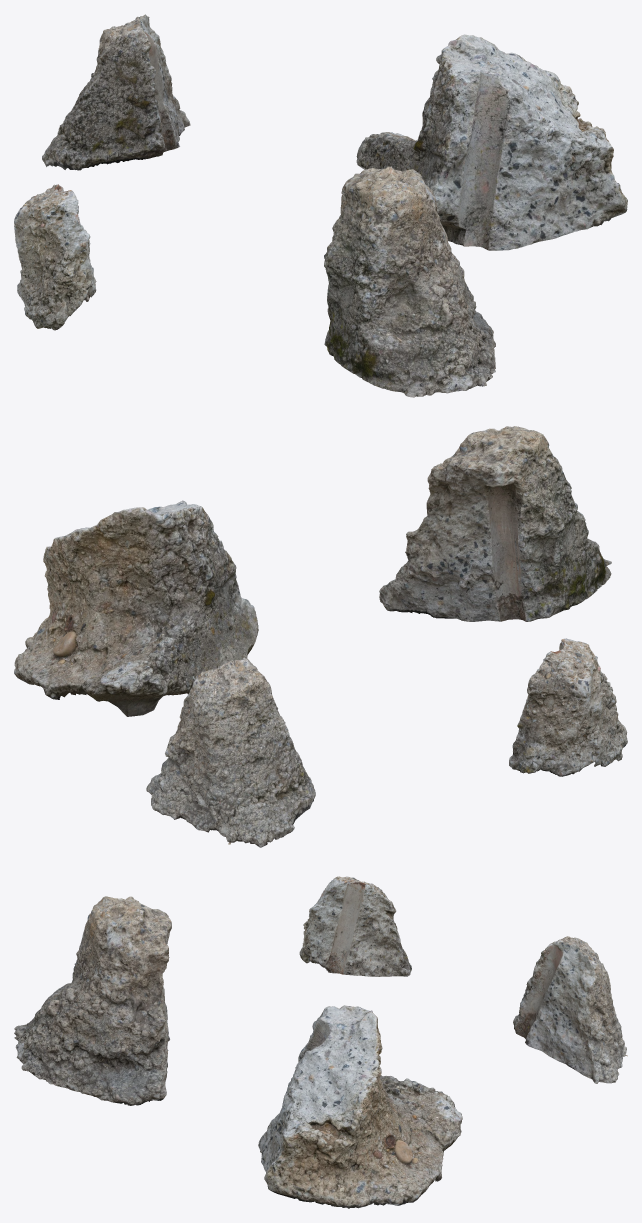
The model's file is concrete_rubble.glb.
The picture shows the model from 3 angles, top to bottom: view 1: azimuth 30°, elevation 25°; view 2: azimuth 150°, elevation 25°; view 3: azimuth 270°, elevation 25°; orthographic projection. The views are drawn at different scales.
Parts seen in each view (by area): view 1: Model.002, Model.003, Model, Model.001; view 2: Model.002, Model.003, Model, Model.001; view 3: Model.002, Model.003, Model, Model.001.
Part boxes in pixels (box(x1,y1,x2,y2)): Model.002: box(356, 34, 627, 250); Model.003: box(324, 166, 495, 397); Model: box(42, 14, 190, 170); Model.001: box(14, 184, 96, 330); Model.002: box(14, 500, 258, 716); Model.003: box(379, 426, 611, 621); Model: box(146, 657, 315, 847); Model.001: box(509, 638, 627, 776); Model.002: box(258, 1005, 462, 1208); Model.003: box(14, 896, 171, 1105); Model: box(513, 936, 627, 1083); Model.001: box(299, 876, 411, 976).
Bounding box in the file's own units: 1.61 × 0.5329 × 1.75.
4 materials, 4 textured.
